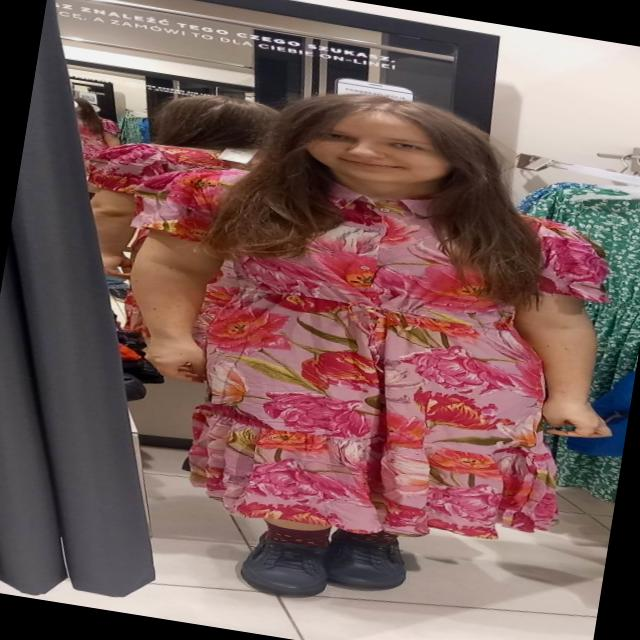dress: (85, 151, 619, 570)
